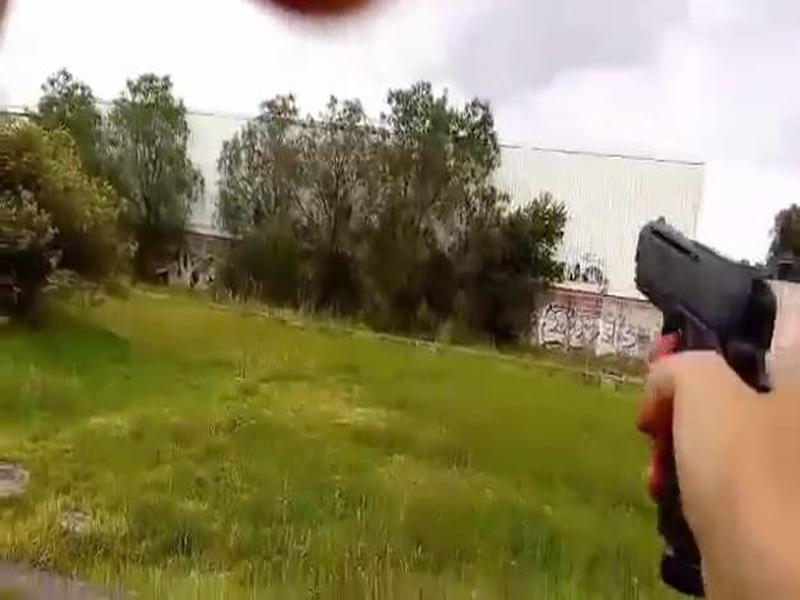Pistola: (607, 184, 787, 524)
